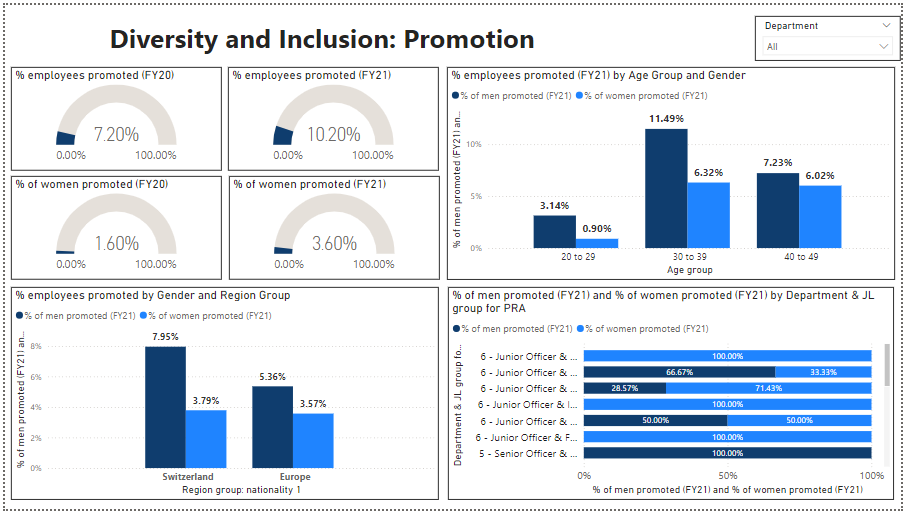

Layout of this report page (visuals, bound fields, positions):
{"tool":"powerbi","page":{"name":"Promotion","canvas":[1280,720],"ordinal":1},"visuals":[{"type":"gauge","fields":{"Y":["Pharma Group AG.% of women promoted (FY21)"]},"box":[320,244,301,148],"z":0},{"type":"gauge","fields":{"Y":["Pharma Group AG.% employees promoted (FY21)"]},"box":[319,88,301,148],"z":1000},{"type":"clusteredColumnChart","title":"% employees promoted (FY21) by Age Group and Gender","fields":{"Y":["Pharma Group AG.% of men promoted (FY21)","Pharma Group AG.% of women promoted (FY21)"],"Category":["Pharma Group AG.Age group"]},"box":[631,88,640,304],"z":2000},{"type":"hundredPercentStackedBarChart","fields":{"Category":["Pharma Group AG.Department & JL group for PRA"],"Y":["Pharma Group AG.% of men promoted (FY21)","Pharma Group AG.% of women promoted (FY21)"]},"box":[633,403,637,304],"z":3000},{"type":"clusteredColumnChart","title":"% employees promoted by Gender and Region Group","fields":{"Y":["Pharma Group AG.% of men promoted (FY21)","Pharma Group AG.% of women promoted (FY21)"],"Category":["Pharma Group AG.Region group: nationality 1"]},"box":[9,403,611,304],"z":4000},{"type":"gauge","fields":{"Y":["Pharma Group AG.% employees promoted (FY20)"]},"box":[8,88,301,148],"z":5000},{"type":"gauge","fields":{"Y":["Pharma Group AG.% of women promoted (FY20)"]},"box":[8,244,301,148],"z":6000},{"type":"slicer","fields":{"Values":["Pharma Group AG.Last Department in FY20"]},"box":[1072,16,208,64],"z":7000},{"type":"textbox","box":[144,16,656,64],"z":9000}]}

Visuals, with their boxes in screenshot pixels (x1, y1, x2, y2), scaled from the page's 1280x720 canvas onto the 907x515 screenshot:
gauge - Pharma Group AG.% of women promoted (FY21): <box>227,175,440,280</box>
gauge - Pharma Group AG.% employees promoted (FY21): <box>226,63,439,169</box>
"% employees promoted (FY21) by Age Group and Gender" clusteredColumnChart: <box>447,63,901,280</box>
hundredPercentStackedBarChart - Pharma Group AG.Department & JL group for PRA x Pharma Group AG.% of men promoted (FY21): <box>449,288,900,506</box>
"% employees promoted by Gender and Region Group" clusteredColumnChart: <box>6,288,439,506</box>
gauge - Pharma Group AG.% employees promoted (FY20): <box>6,63,219,169</box>
gauge - Pharma Group AG.% of women promoted (FY20): <box>6,175,219,280</box>
slicer - Pharma Group AG.Last Department in FY20: <box>760,11,906,57</box>
textbox: <box>102,11,567,57</box>
